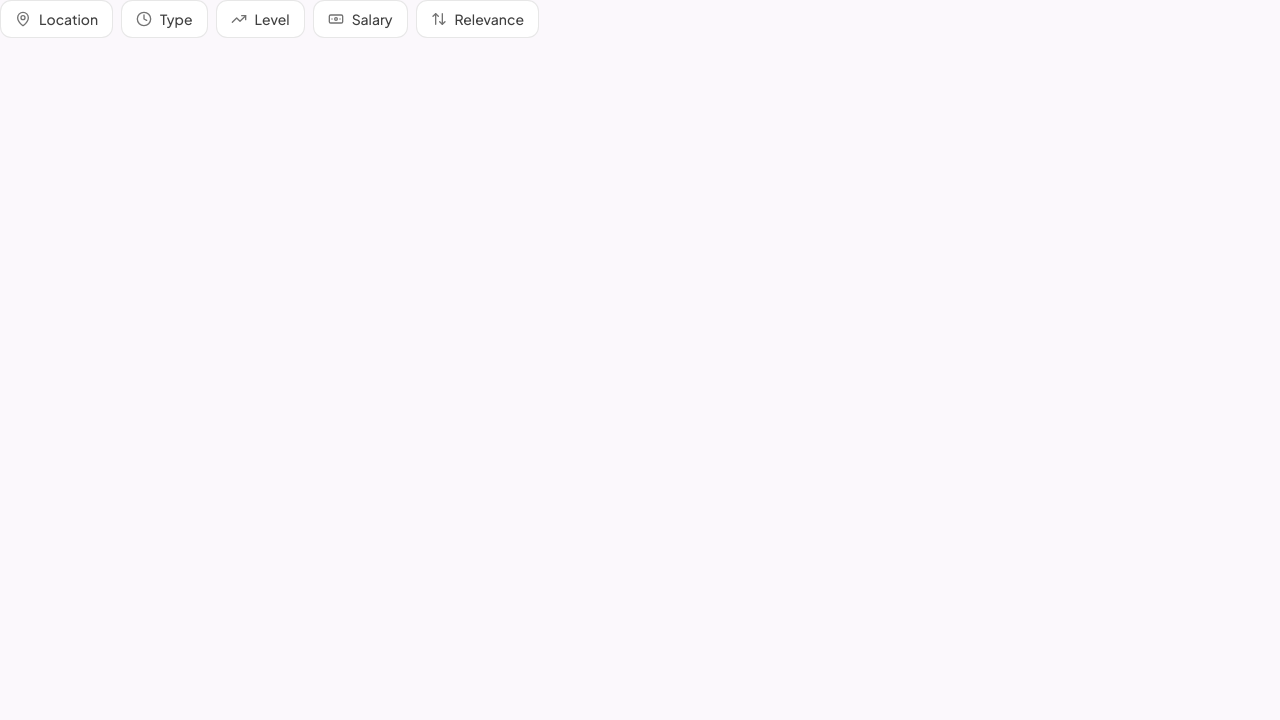
ToolbarFilters Component › Salary Filter Dropdown (media_1790280898082.png) › displays Minimum, Maximum inputs with $USD and a Confirm button
Click the button "Salary": [360, 19] box left=313, top=0, right=408, bottom=38
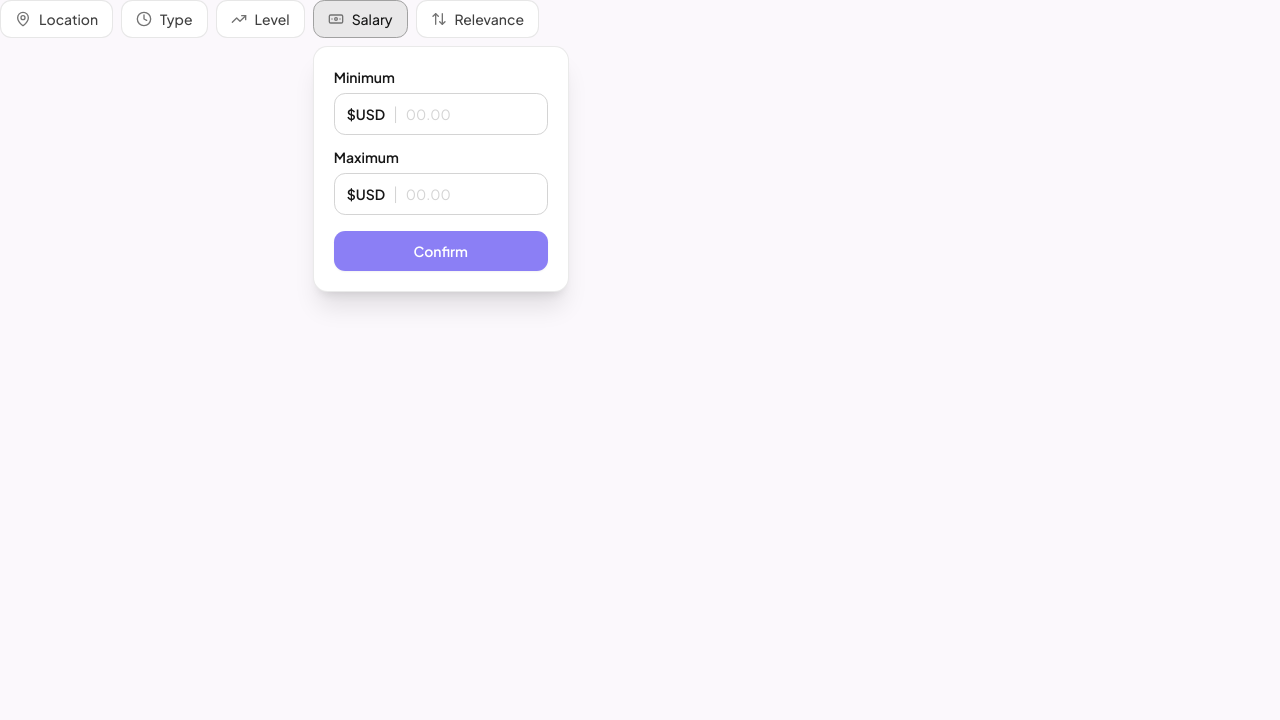
Expected: the dialog named "salary range filter" is shown, left=313, top=46, right=569, bottom=292
Expected: the number field labelled "Minimum" is shown, left=406, top=104, right=535, bottom=124
Expected: the number field labelled "Maximum" is shown, left=406, top=184, right=535, bottom=204
